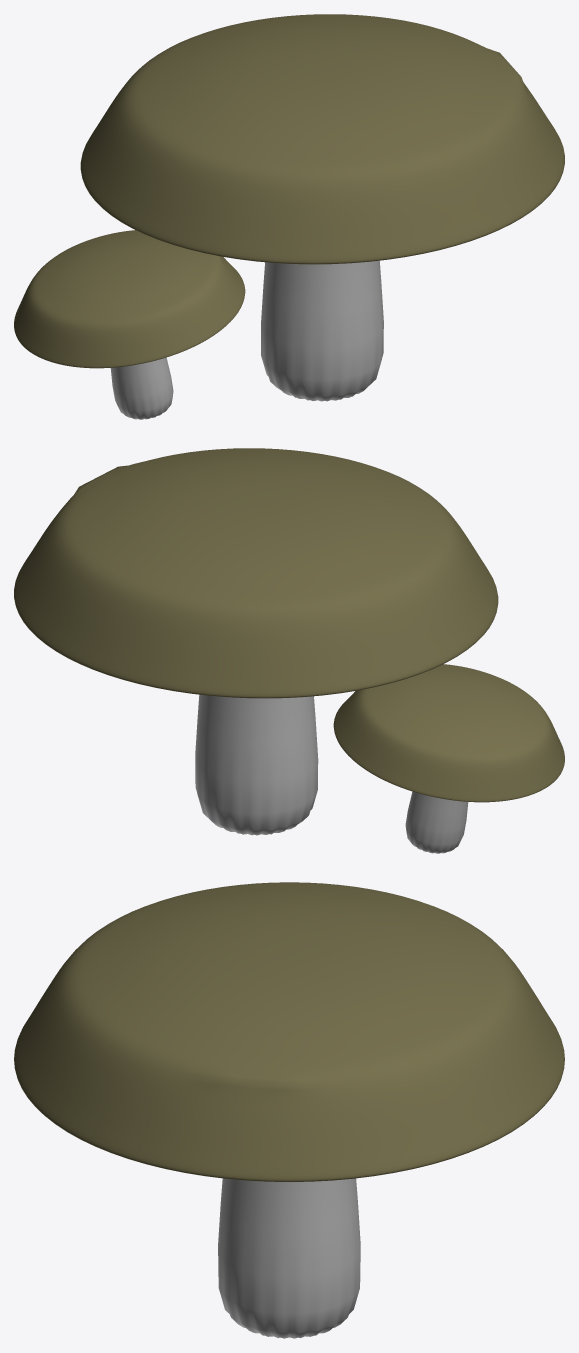
The model's file is Mushroom.fbx.
3 renders of one model, top to bottom at view 1: azimuth 30°, elevation 25°; view 2: azimuth 150°, elevation 25°; view 3: azimuth 270°, elevation 25°, orthographic. The views are drawn at different scales.
Parts seen in each view (by area): view 1: Mushroom1, pasted__pCylinder2; view 2: Mushroom1, pasted__pCylinder2; view 3: Mushroom1.
Part boxes in pixels (x1,y1,x2,y2): Mushroom1: (80, 14, 564, 401); pasted__pCylinder2: (14, 230, 245, 419); Mushroom1: (14, 448, 498, 835); pasted__pCylinder2: (333, 664, 564, 853); Mushroom1: (14, 882, 564, 1338).
Bounding box in the file's own units: 0.2911 × 0.175 × 0.2341.
